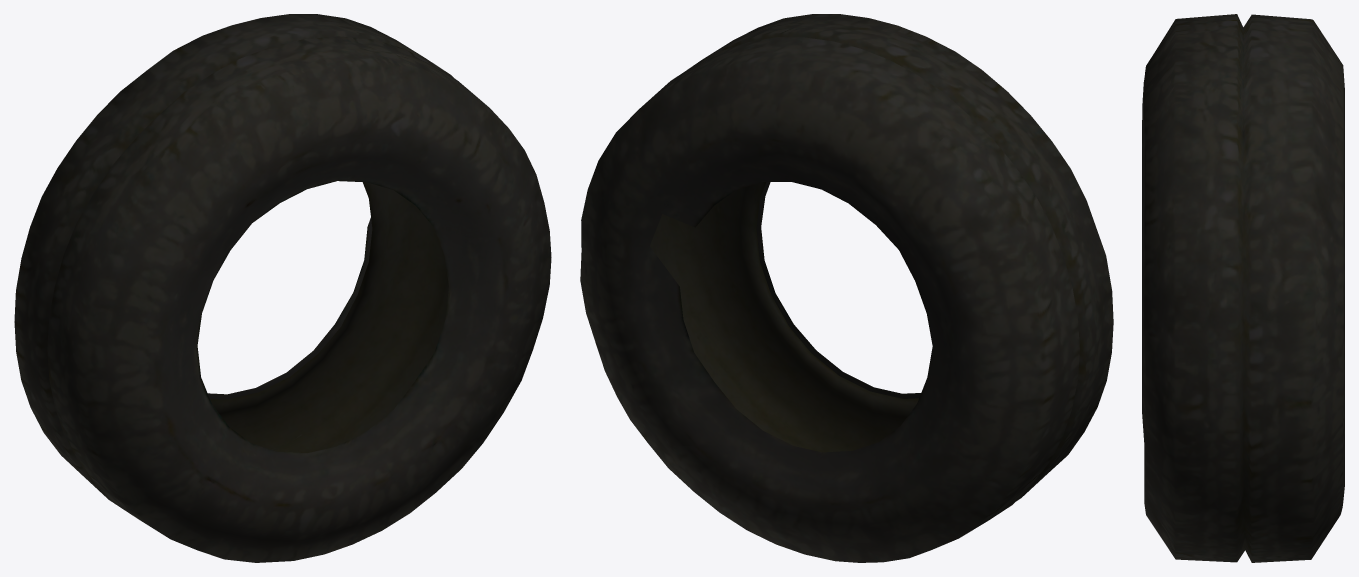
File: TIRE_RuggedTextured.glb
3 renders of one model, left to right at view 1: azimuth 30°, elevation 25°; view 2: azimuth 150°, elevation 25°; view 3: azimuth 270°, elevation 25°, orthographic.
Visible parts, largest first — view 1: geometry_0; view 2: geometry_0; view 3: geometry_0.
Boxes of the visible parts, <box> form: geometry_0: <box>14,14,551,562</box>; geometry_0: <box>580,14,1113,562</box>; geometry_0: <box>1142,14,1344,562</box>.
Bounding box in the file's own units: 0.9561 × 0.9517 × 0.3511.
1 material, 1 textured.
